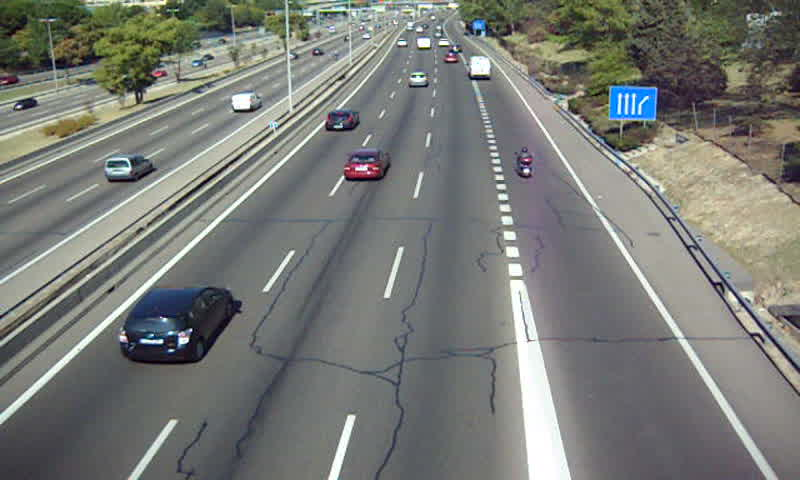car: (120, 286, 232, 364), (342, 150, 389, 182), (322, 109, 359, 131), (406, 72, 426, 88), (444, 52, 459, 64), (394, 37, 408, 45)
motorcycle: (514, 146, 537, 180)
van: (465, 55, 492, 79), (416, 38, 430, 50)
